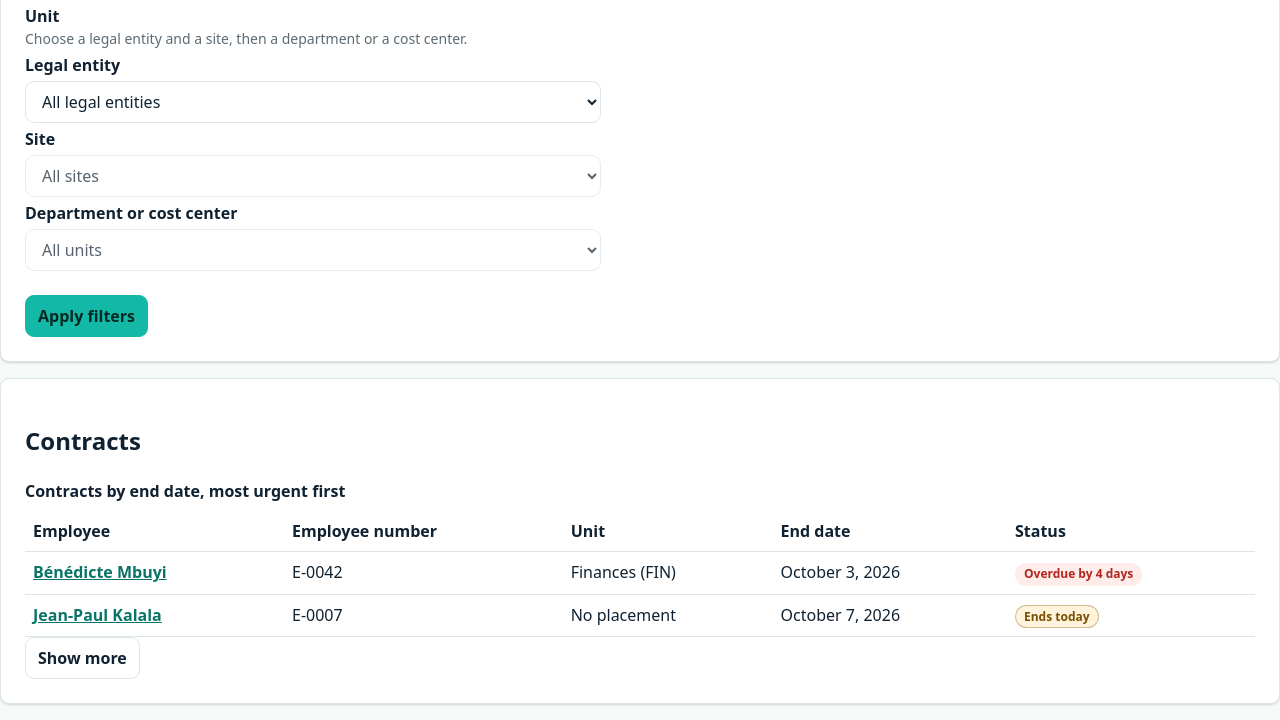
Test: MVP-031A contract expirations (en) › shows more with the cursor and moves focus to the first new row
(page scrolled)
Expected: the table with test id "expirations-table" is shown, [25,479,1255,637]
Click the button "Show more": (82, 658) [25,637,140,679]
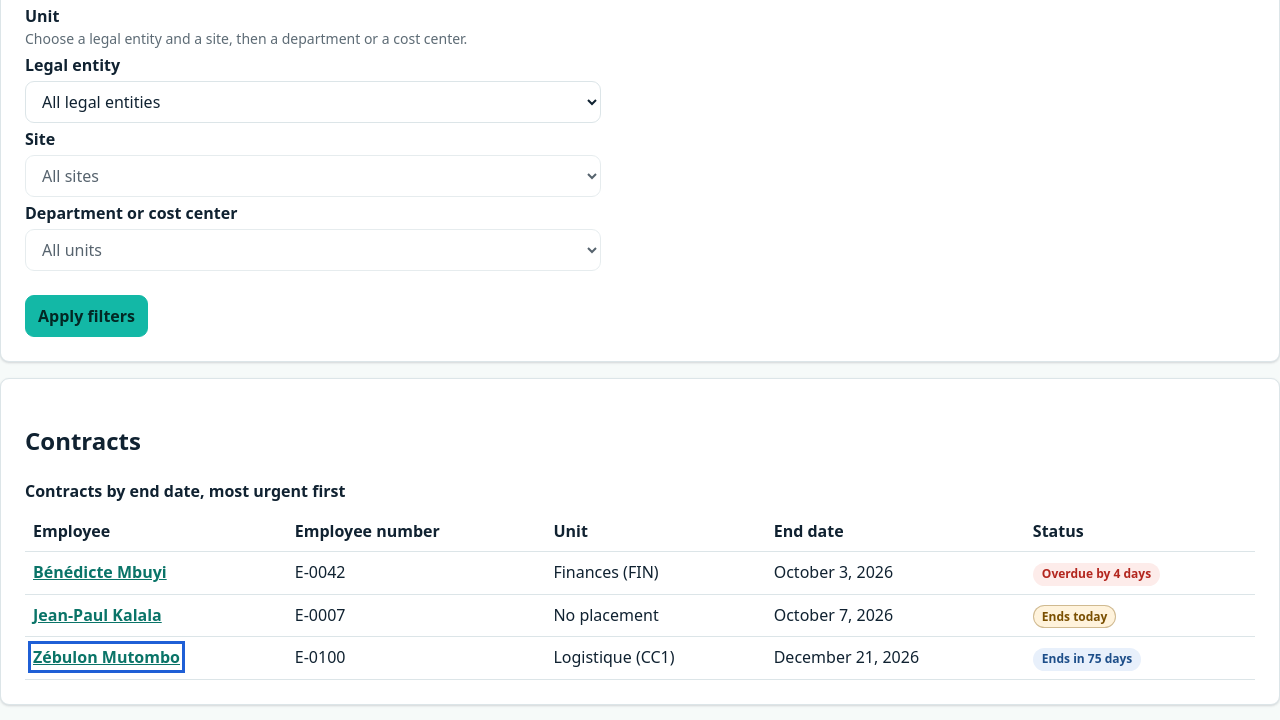
Expected: the number of rows with test id "expiration-row" is 3, [25,552,1255,594]; [25,594,1255,637]; [25,637,1255,680]
Expected: the button "Show more" is gone
